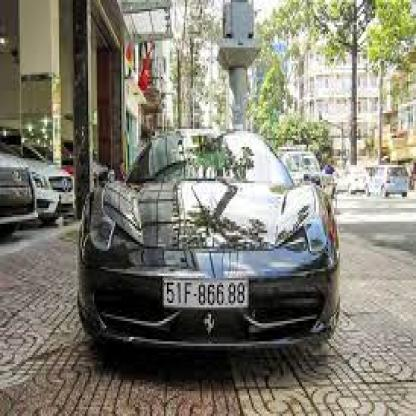biensoxe: (162, 274, 250, 310)
